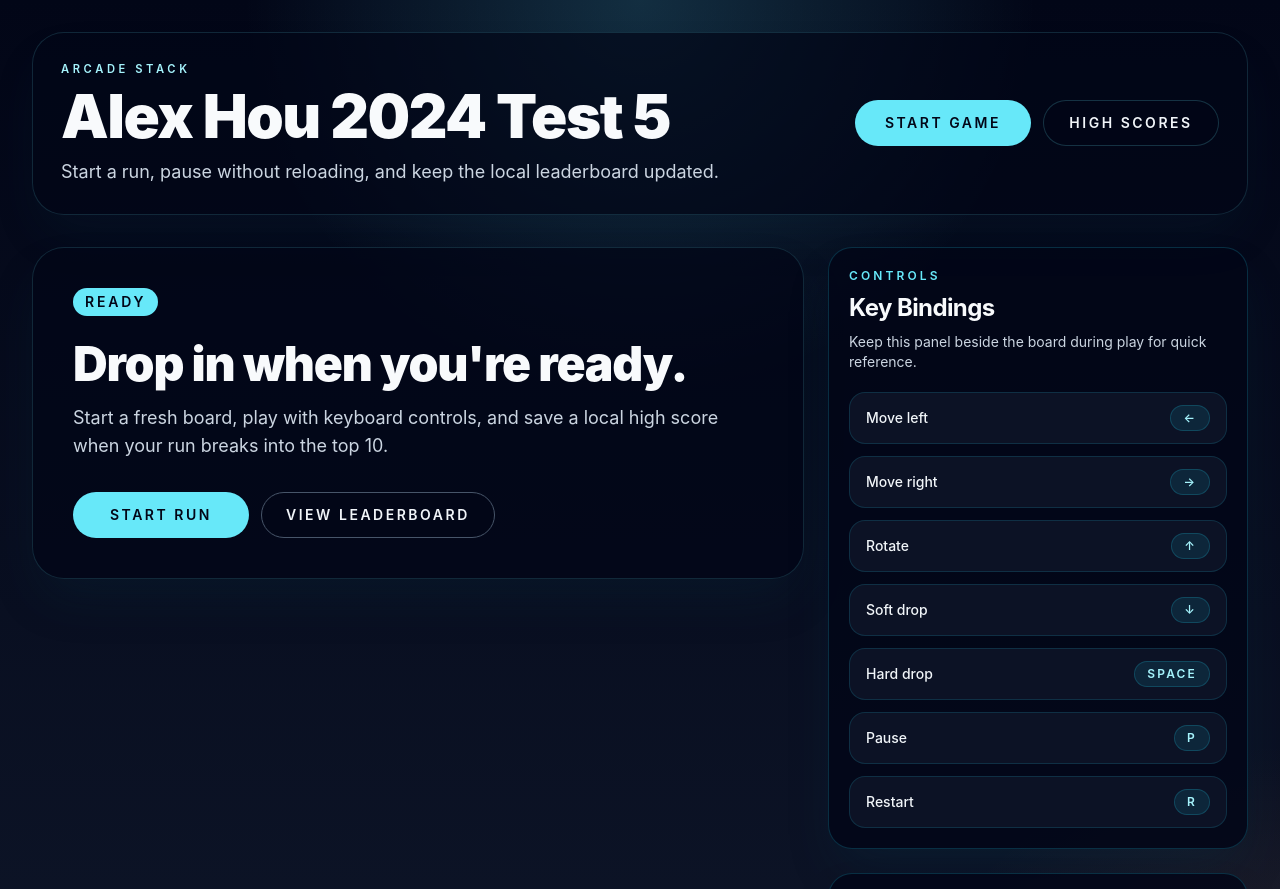
Test: App › starts a run and renders the gameplay layout without reloading
Click the button "Start Game". click: (943, 123)
box: [855,100,1031,146]
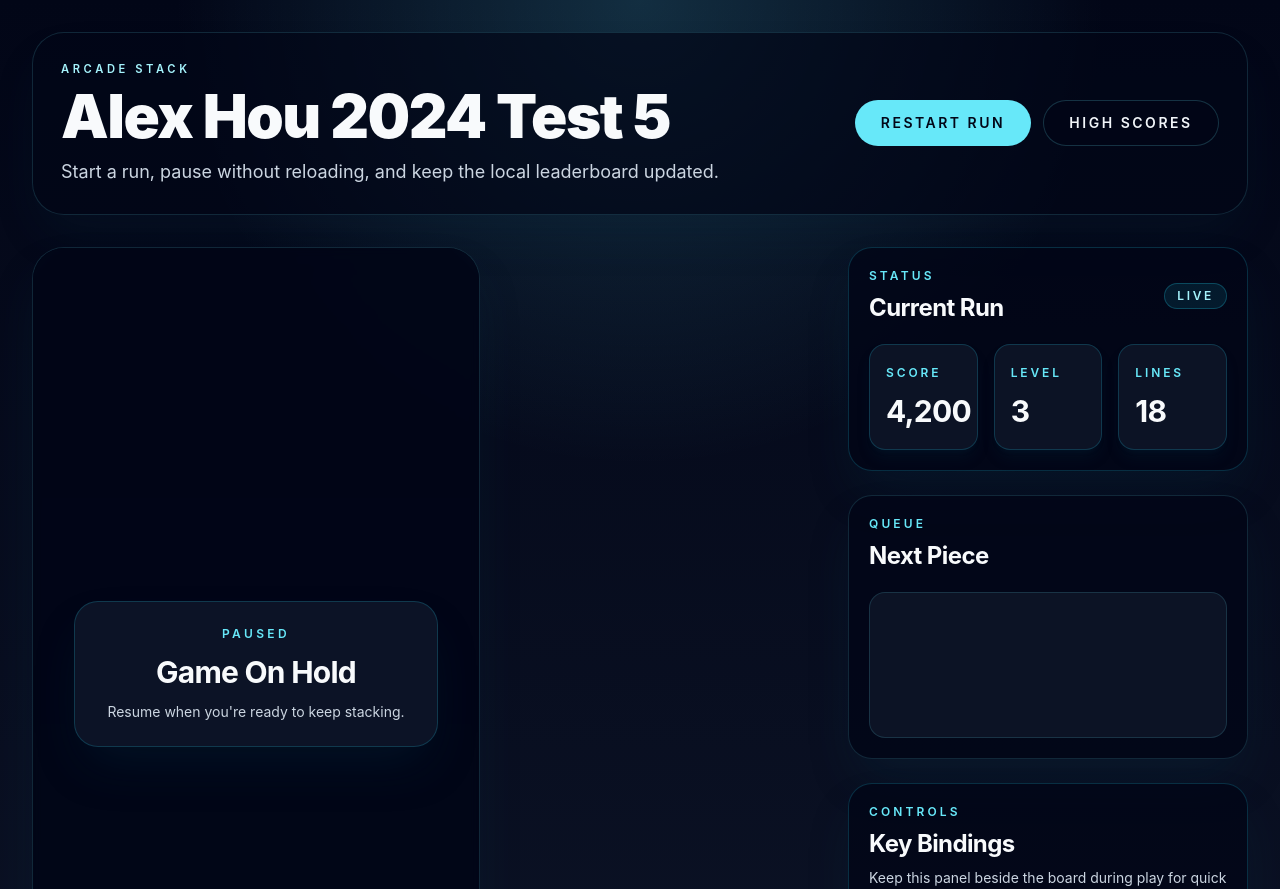
Check: the element named "Game stats" is shown, box [848,247,1248,471]
